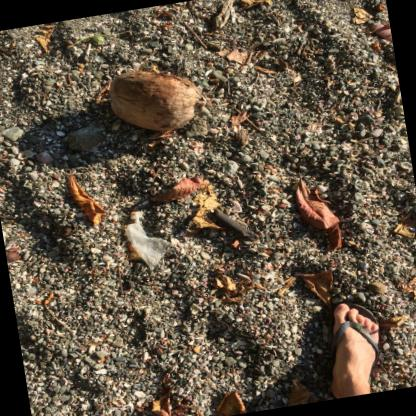Plastic: (125, 211, 172, 270)
